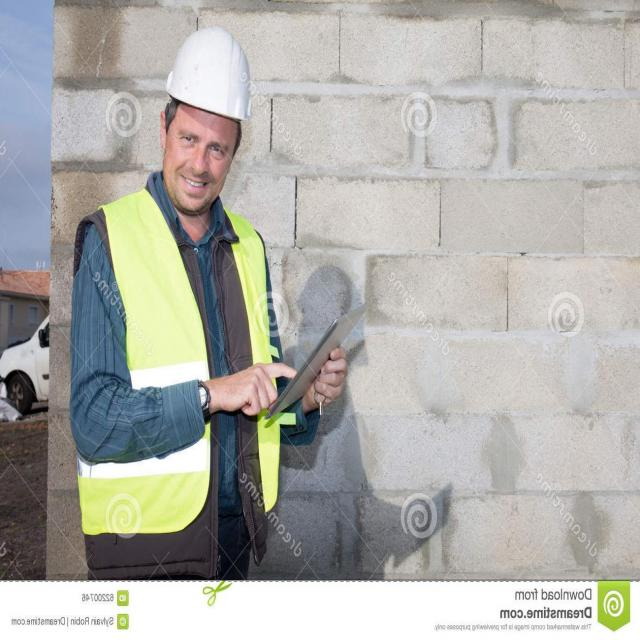Reflective-Jacket: (88, 192, 282, 528)
Safety-Helmet: (165, 22, 256, 125)
